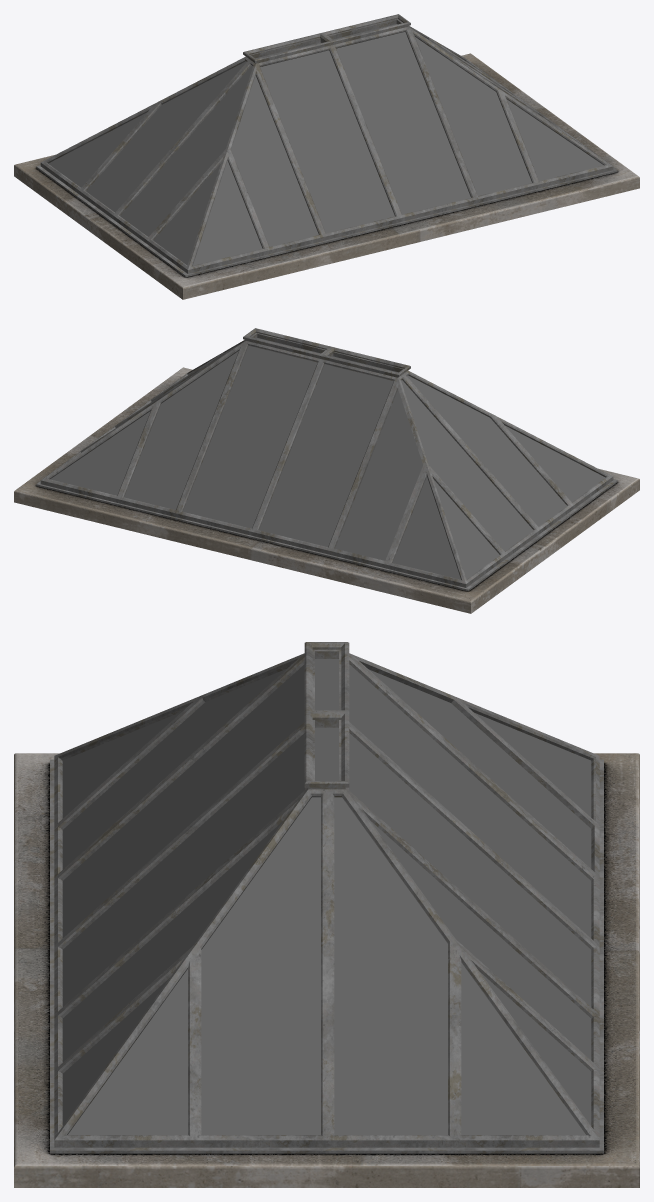
File: skylight_rooftop_prop1.glb
3 renders of one model, top to bottom at view 1: azimuth 30°, elevation 25°; view 2: azimuth 150°, elevation 25°; view 3: azimuth 270°, elevation 25°, orthographic. The views are drawn at different scales.
Visible parts, largest first — view 1: Cube.001_0; view 2: Cube.001_0; view 3: Cube.001_0.
Part boxes in pixels (x1,y1,x2,y2): Cube.001_0: (14, 14, 639, 299); Cube.001_0: (14, 328, 639, 613); Cube.001_0: (14, 642, 639, 1187).
Bounding box in the file's own units: 4.81 × 1.46 × 3.08.
3 materials, 2 textured.
